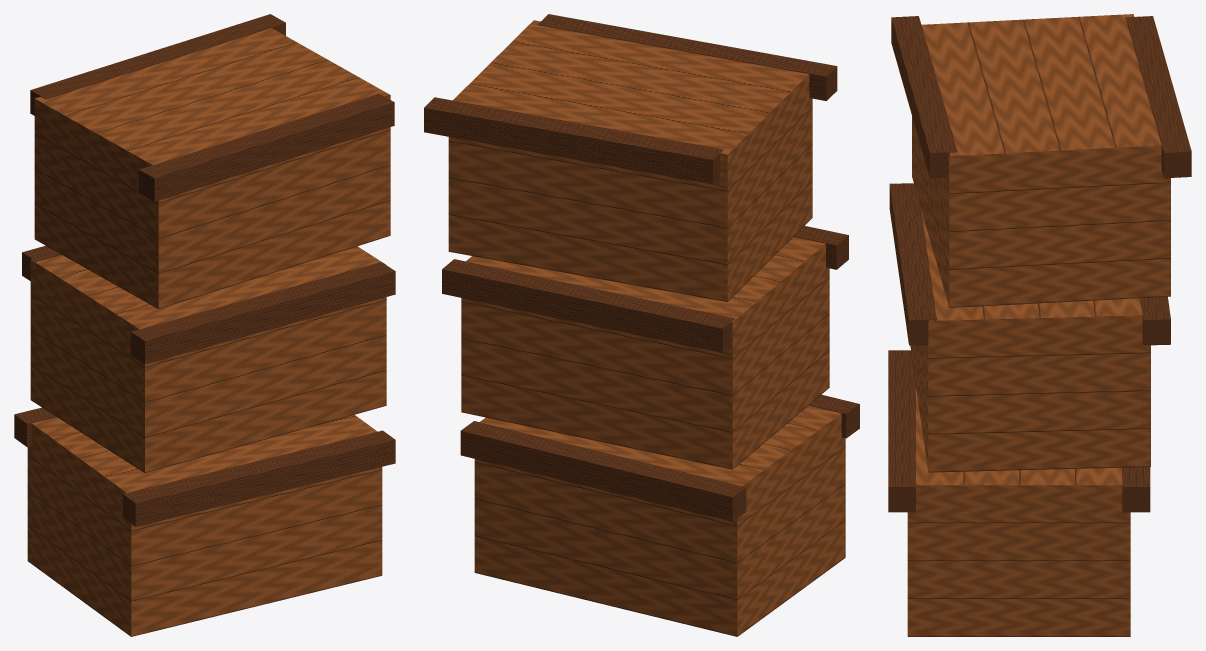
The model's file is beer_crate_stack.glb.
The picture shows the model from 3 angles, left to right: view 1: azimuth 30°, elevation 25°; view 2: azimuth 150°, elevation 25°; view 3: azimuth 270°, elevation 25°; orthographic projection. The views are drawn at different scales.
Parts seen in each view (by area): view 1: beer-crate-stack-timber, beer-crate-stack-darkwood; view 2: beer-crate-stack-timber, beer-crate-stack-darkwood; view 3: beer-crate-stack-timber, beer-crate-stack-darkwood.
Boxes of the visible parts, <box> form: beer-crate-stack-timber: <box>27,28,390,636</box>; beer-crate-stack-darkwood: <box>14,14,395,526</box>; beer-crate-stack-timber: <box>448,20,845,636</box>; beer-crate-stack-darkwood: <box>424,14,859,521</box>; beer-crate-stack-timber: <box>907,14,1170,636</box>; beer-crate-stack-darkwood: <box>888,16,1191,512</box>.
Size of the model in its own units: 0.6319 by 0.9812 by 0.5445.
Materials: 3 (2 with a texture image).
